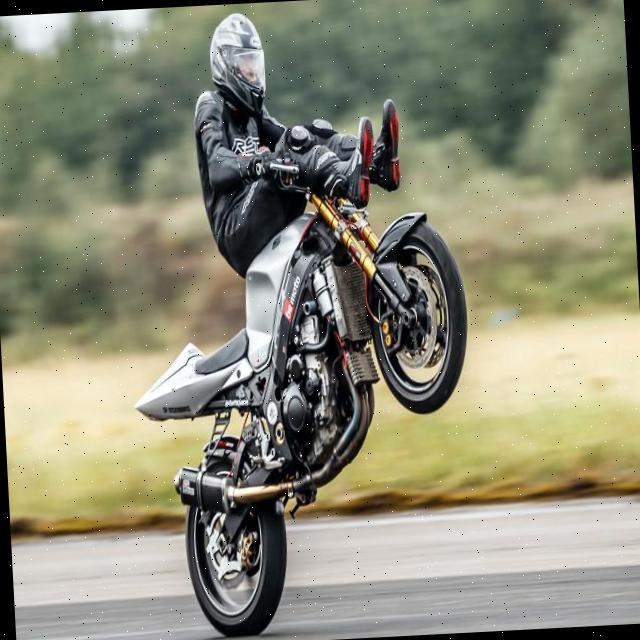Wheeling: (134, 0, 477, 633)
